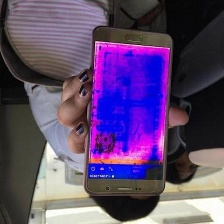phone: (81, 21, 177, 201)
